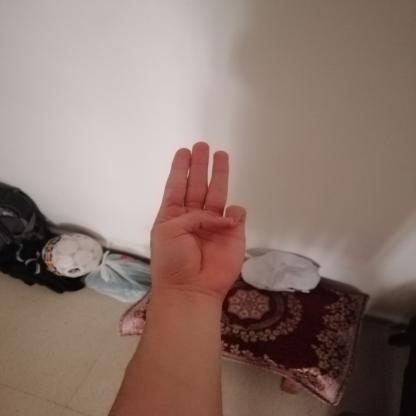THA: (134, 131, 261, 307)
